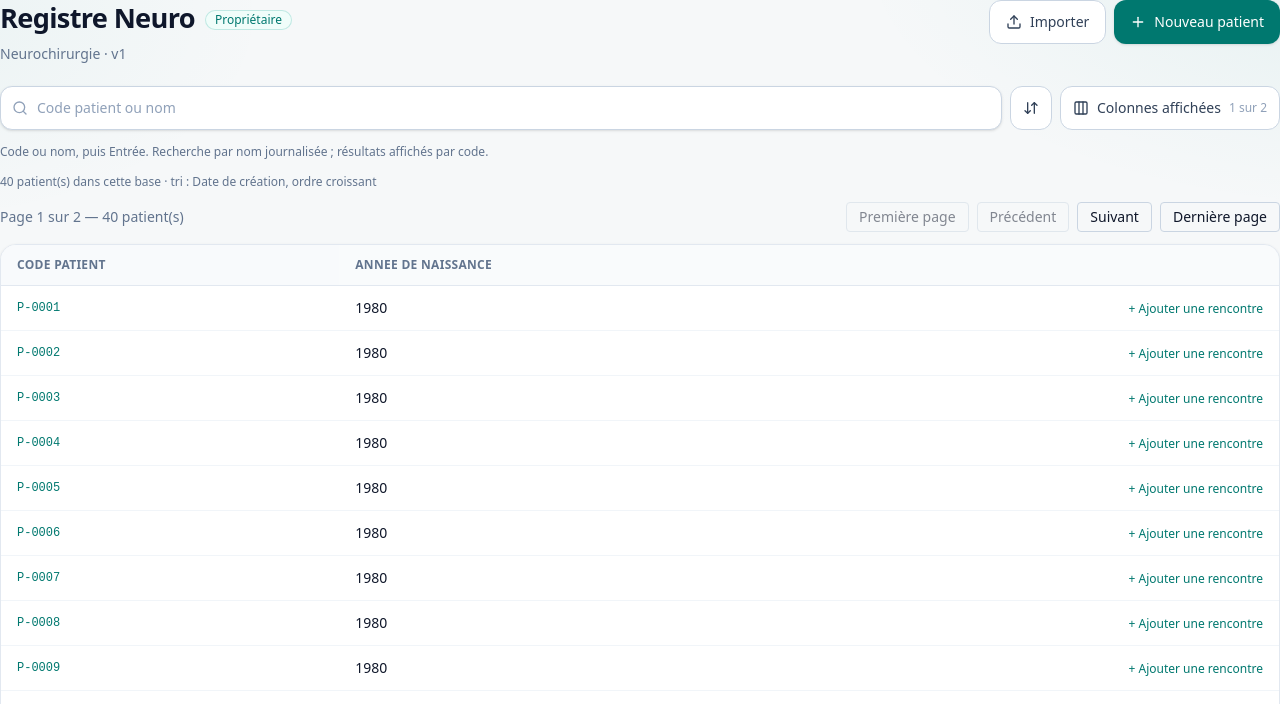
BaseHome — recherche nominative (UX-12(c)) › P05 — un seul champ cherche code ET nom, et seul le code revient à l'écran
Expected: the button "P-0001" is shown, [17,300,60,316]
Type "Fictif" into the search field named "Rechercher un patient" at (501, 108), box [0,86,1002,130]
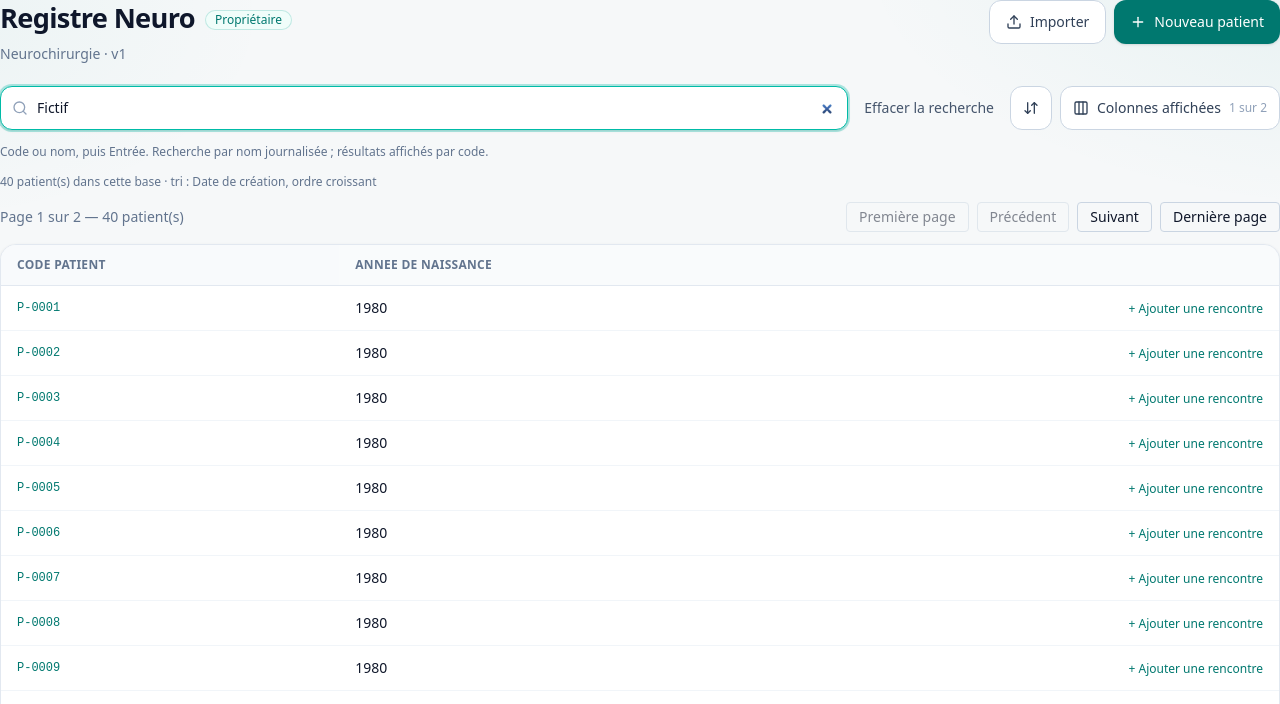
Press Enter
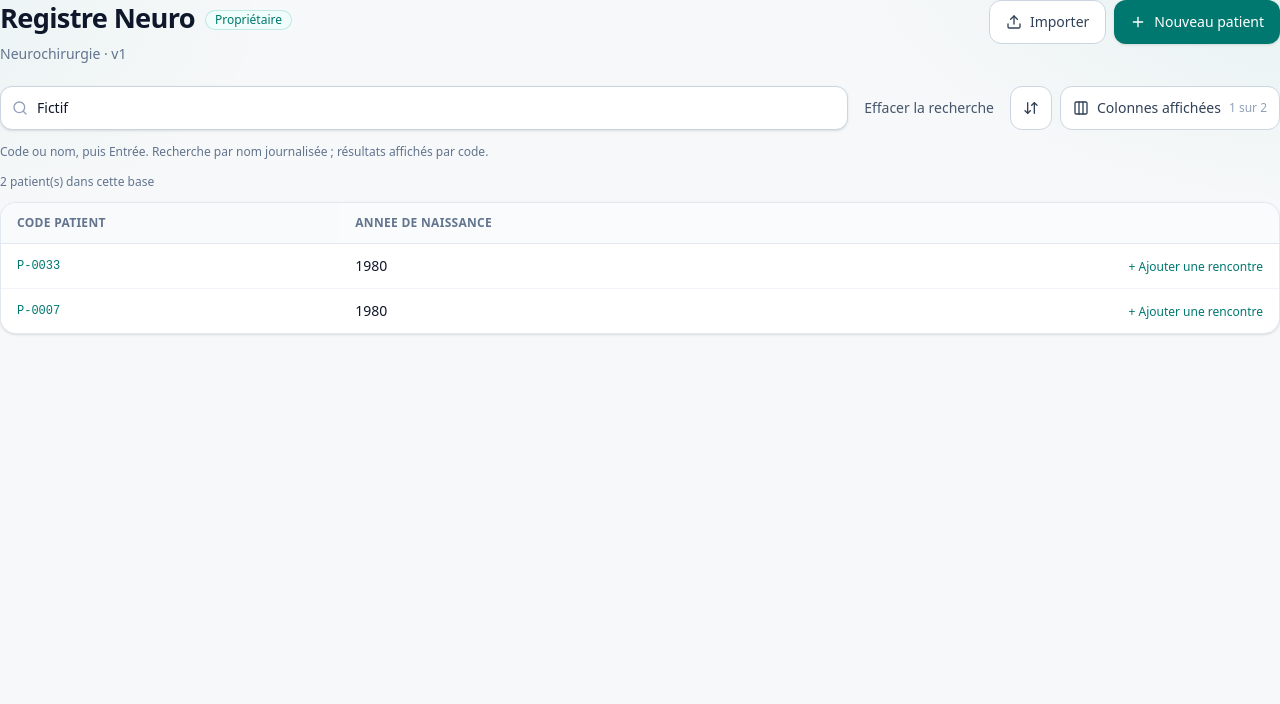
Now the button "P-0033" is shown, box [17,258,60,274]
